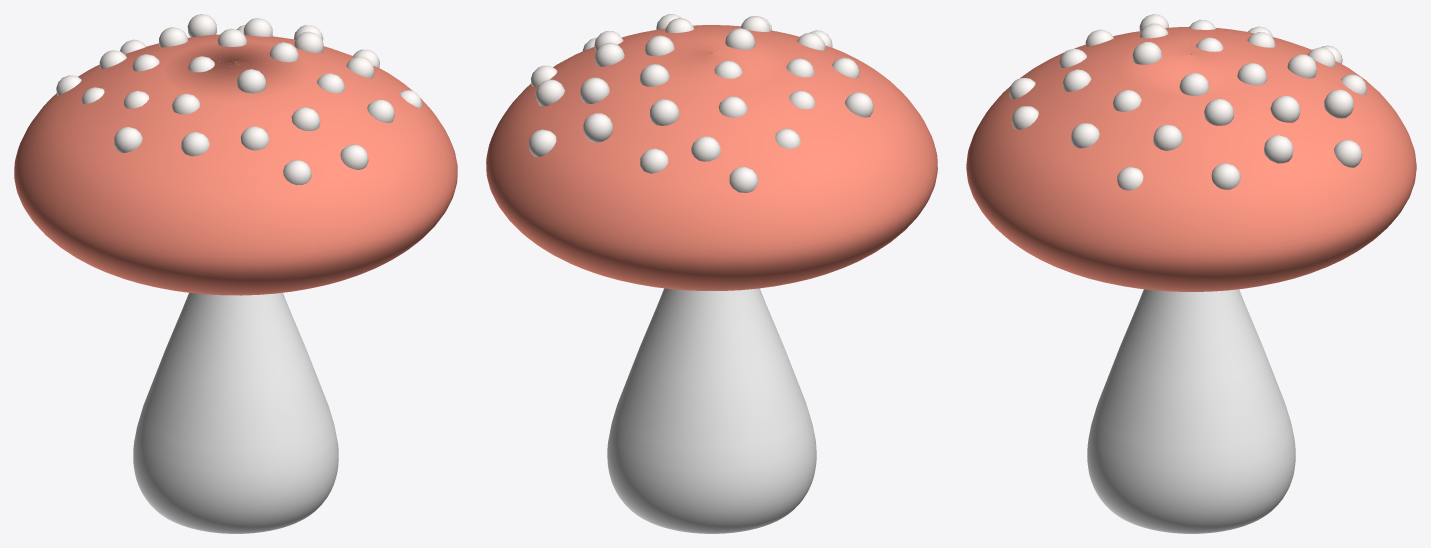
Rendered from Mushroom 1.fbx.
3 views of the same model, side by side, from view 1: azimuth 30°, elevation 25°; view 2: azimuth 150°, elevation 25°; view 3: azimuth 270°, elevation 25° (orthographic).
Parts seen in each view (by area): view 1: mushroom1; view 2: mushroom1; view 3: mushroom1.
Boxes of the visible parts, left/top/right/bottom form: mushroom1: left=14, top=14, right=457, bottom=533; mushroom1: left=486, top=14, right=937, bottom=533; mushroom1: left=966, top=14, right=1416, bottom=533.
Bounding box in the file's own units: 79.34 × 88.07 × 79.34.
